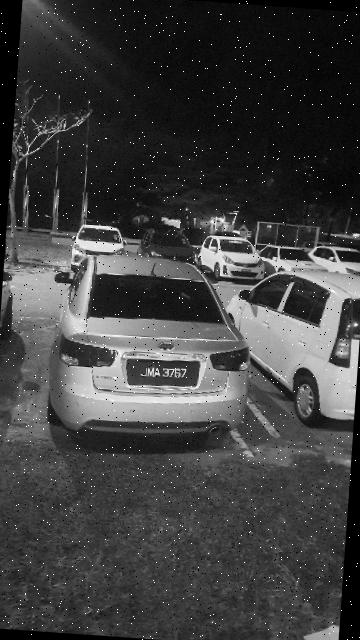License_Plate: (124, 357, 201, 391)
car: (42, 248, 261, 450), (216, 267, 360, 431), (198, 234, 268, 283), (257, 242, 332, 286), (70, 222, 131, 274), (137, 227, 200, 277), (306, 243, 360, 285)
